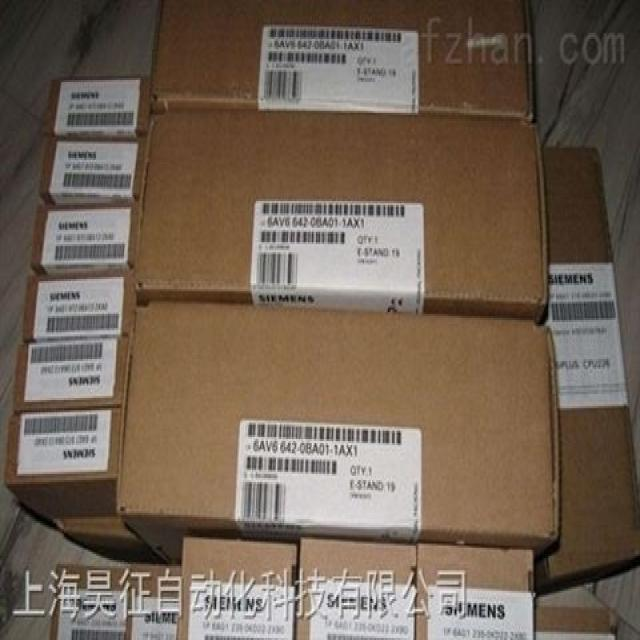box: (117, 308, 561, 566), (133, 113, 548, 322), (533, 146, 640, 595), (151, 0, 533, 119), (4, 408, 120, 521), (177, 535, 297, 640), (296, 539, 417, 640), (417, 544, 535, 640), (49, 564, 183, 640), (12, 336, 129, 412), (23, 271, 140, 343), (31, 201, 143, 275), (40, 133, 147, 203), (43, 78, 151, 135), (535, 583, 615, 640), (56, 515, 149, 562)
